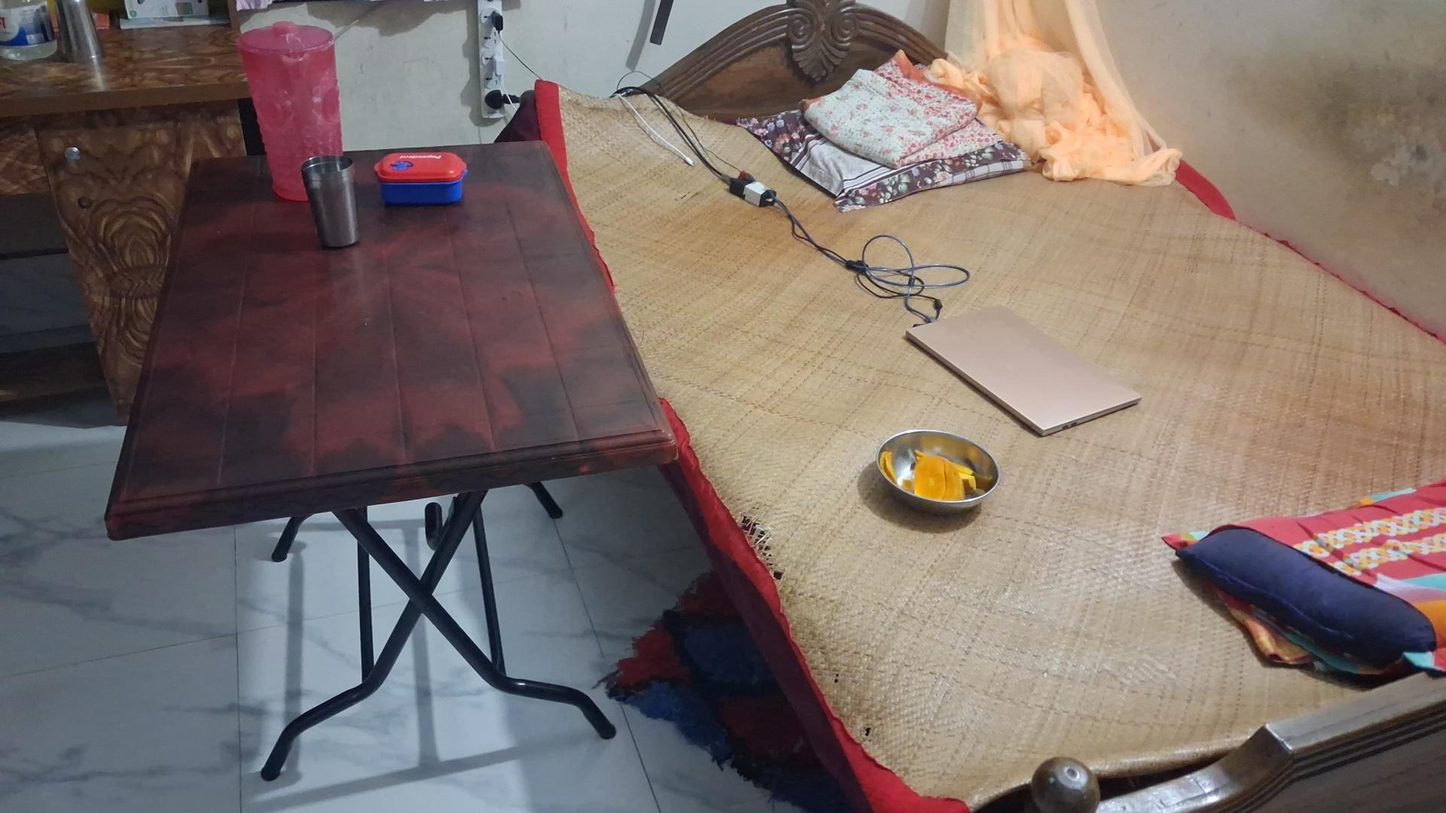Blanket: (801, 45, 1008, 168)
Bowl: (877, 429, 1002, 517)
Food: (903, 451, 977, 512)
Glass: (301, 154, 360, 250), (47, 2, 103, 69)
Jar: (374, 148, 465, 209)
Jug: (237, 20, 345, 203)
Laptop: (905, 305, 1142, 438)
Table: (104, 138, 681, 778)
